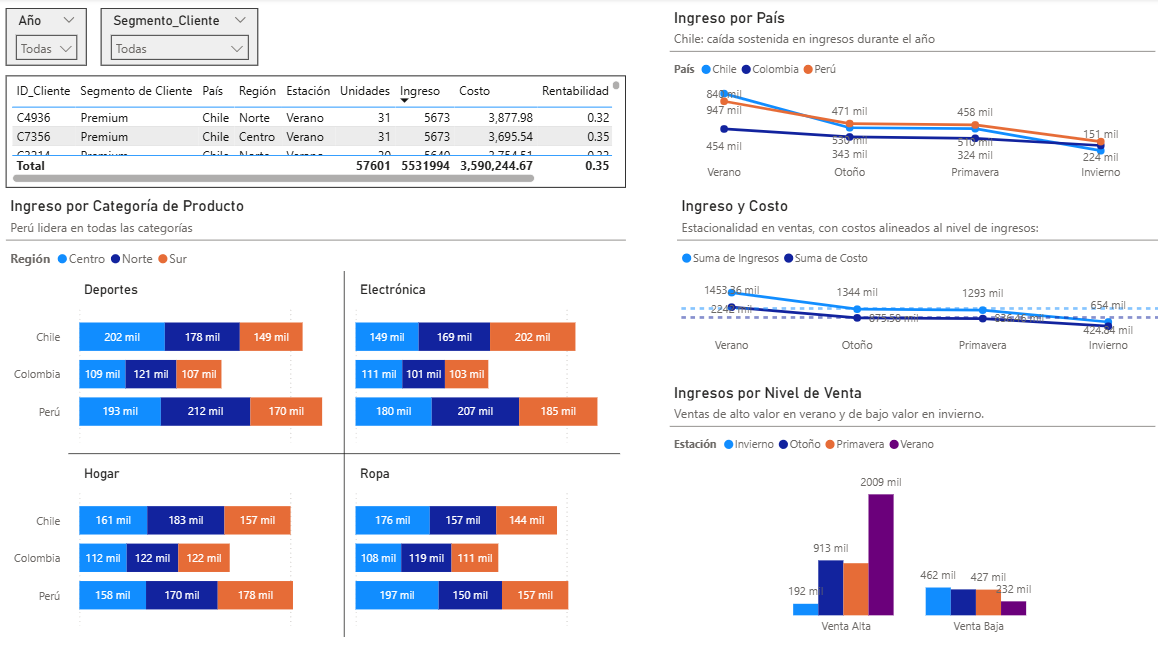

The page's visual inventory and layout, read from the dashboard file:
{"tool":"powerbi","page":{"name":"Detalle","canvas":[1280,720],"ordinal":1},"visuals":[{"type":"lineChart","title":"Ingreso y Costo","fields":{"Category":["Andes_Retail_Group_2024_2025.Estación"],"Y":["Sum(Andes_Retail_Group_2024_2025.Ingresos)","Sum(Andes_Retail_Group_2024_2025.Costo)"]},"box":[746.5,218.2,533.8,179.8],"z":0},{"type":"lineChart","title":"Ingreso por País","fields":{"Category":["Andes_Retail_Group_2024_2025.Estación"],"Series":["Andes_Retail_Group_2024_2025.País"],"Y":["Sum(Andes_Retail_Group_2024_2025.Ingresos)"]},"box":[738.3,11,533.8,197.6],"z":1000},{"type":"tableEx","fields":{"Values":["Andes_Retail_Group_2024_2025.ID_Cliente","Andes_Retail_Group_2024_2025.Segmento_Cliente","Andes_Retail_Group_2024_2025.País","Andes_Retail_Group_2024_2025.Región","Andes_Retail_Group_2024_2025.Estación","Sum(Andes_Retail_Group_2024_2025.Unidades Vendidas)","Sum(Andes_Retail_Group_2024_2025.Ingresos)","Sum(Andes_Retail_Group_2024_2025.Costo)","Avg(Andes_Retail_Group_2024_2025.Rentabilidad)","Andes_Retail_Group_2024_2025.Nivel_Venta"]},"box":[9.6,85.1,680.6,123.5],"z":2000},{"type":"barChart","title":"Ingreso por Categoría de Producto","fields":{"Category":["Andes_Retail_Group_2024_2025.País"],"Series":["Andes_Retail_Group_2024_2025.Región"],"Y":["Sum(Andes_Retail_Group_2024_2025.Ingresos)"],"Rows":["Andes_Retail_Group_2024_2025.Categoría_Producto"]},"box":[9.6,218.2,680.6,488.5],"z":3000},{"type":"slicer","fields":{"Values":["Andes_Retail_Group_2024_2025.Fecha_Pedido.Variación.Jerarquía de fechas.Año"]},"box":[9.6,11,89.2,63.1],"z":4000},{"type":"clusteredColumnChart","title":"Ingresos por Nivel de Venta","fields":{"Category":["Andes_Retail_Group_2024_2025.Nivel_Venta"],"Y":["Sum(Andes_Retail_Group_2024_2025.Ingresos)"],"Series":["Andes_Retail_Group_2024_2025.Estación"]},"box":[738.3,422.6,533.8,284],"z":5000},{"type":"slicer","fields":{"Values":["Andes_Retail_Group_2024_2025.Segmento_Cliente"]},"box":[113.9,11,172.9,63.1],"z":6000}]}

Visuals, with their boxes in screenshot pixels (x1, y1, x2, y2), scaled from the page's 1280x720 canvas onto the 1158x650 screenshot:
"Ingreso y Costo" lineChart: l=675, t=197, r=1157, b=359
"Ingreso por País" lineChart: l=668, t=10, r=1151, b=188
tableEx - Andes_Retail_Group_2024_2025.ID_Cliente x Andes_Retail_Group_2024_2025.Segmento_Cliente: l=9, t=77, r=624, b=188
"Ingreso por Categoría de Producto" barChart: l=9, t=197, r=624, b=638
slicer - Andes_Retail_Group_2024_2025.Fecha_Pedido.Variación.Jerarquía de fechas.Año: l=9, t=10, r=89, b=67
"Ingresos por Nivel de Venta" clusteredColumnChart: l=668, t=382, r=1151, b=638
slicer - Andes_Retail_Group_2024_2025.Segmento_Cliente: l=103, t=10, r=259, b=67
